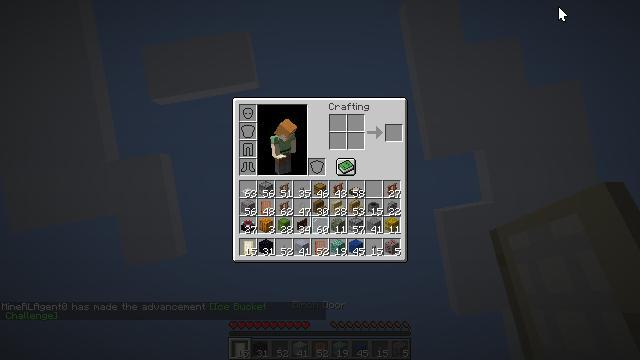cursor: (558, 6, 568, 22)
